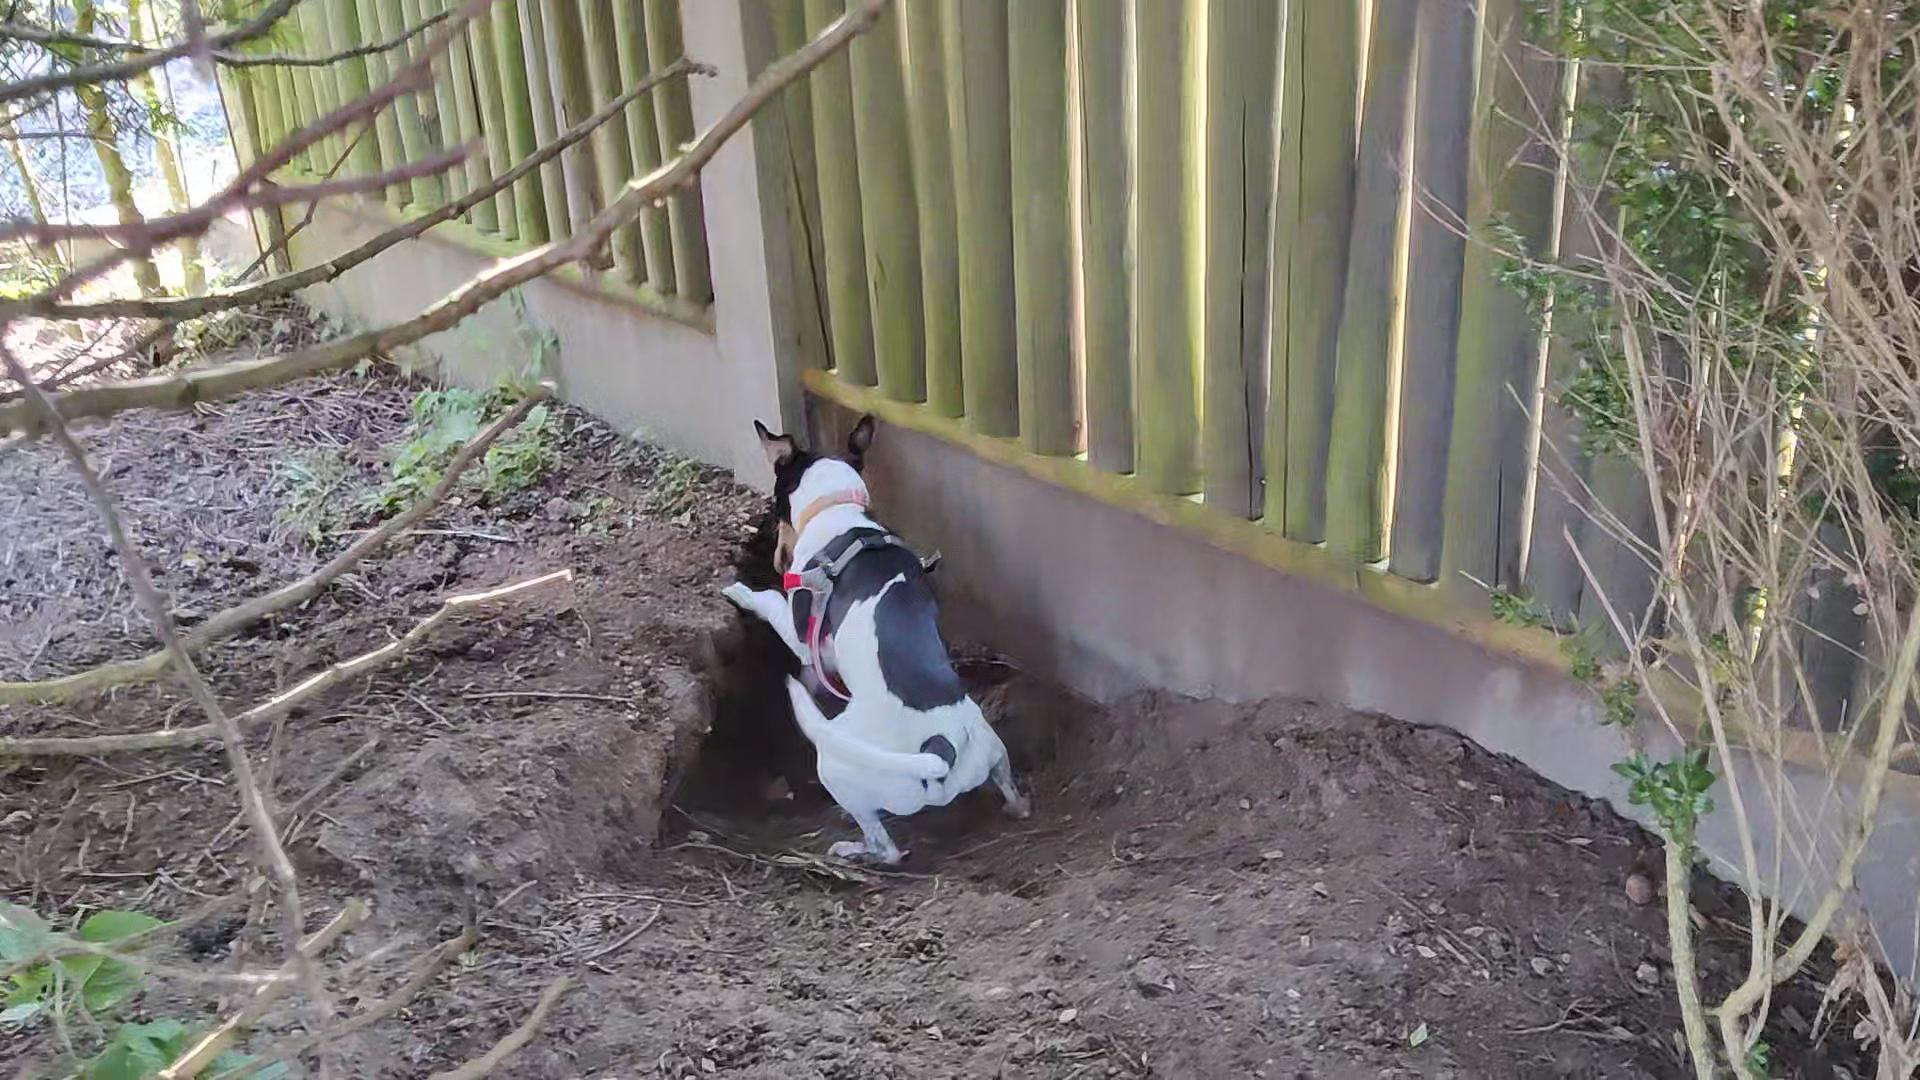Dog: (707, 378, 1036, 885)
